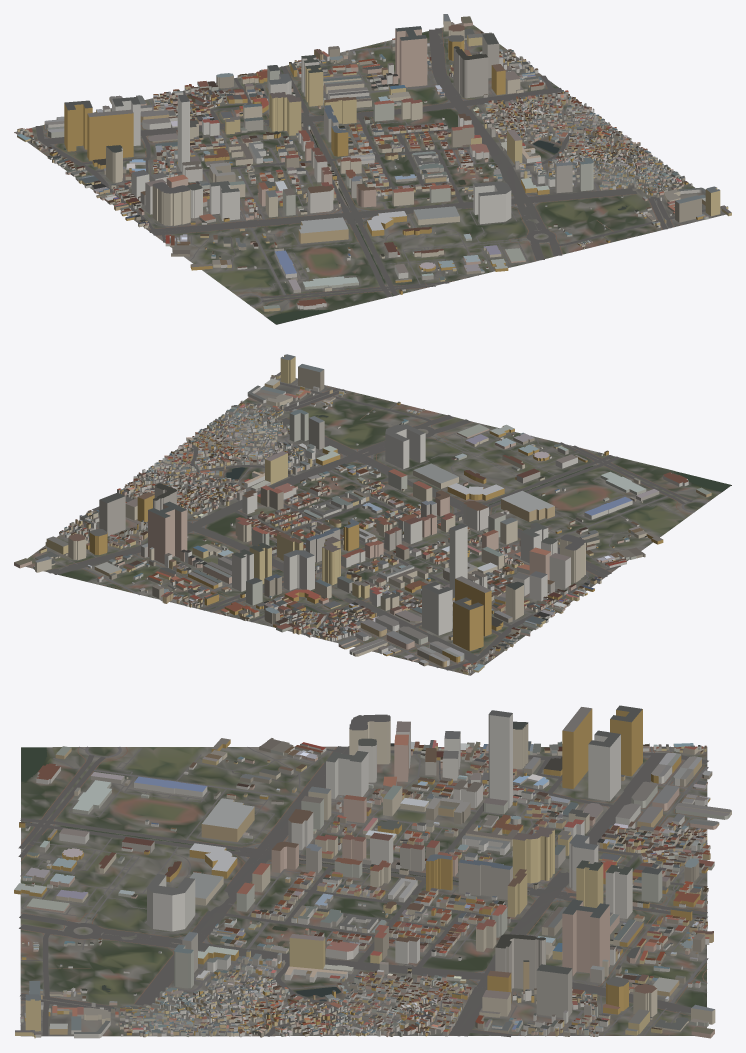
3 renders of one model, top to bottom at view 1: azimuth 30°, elevation 25°; view 2: azimuth 150°, elevation 25°; view 3: azimuth 270°, elevation 25°, orthographic. The views are drawn at different scales.
Parts seen in each view (by area): view 1: buildings, ground, roads, water; view 2: buildings, ground, roads, water; view 3: buildings, ground, roads, water.
Boxes of the visible parts, <box> form: buildings: <box>17,14,731,311</box>; ground: <box>14,23,725,324</box>; roads: <box>15,27,724,311</box>; water: <box>63,108,627,324</box>; buildings: <box>14,354,711,674</box>; ground: <box>25,378,731,675</box>; roads: <box>33,378,709,675</box>; water: <box>225,415,730,649</box>; buildings: <box>14,705,731,1038</box>; ground: <box>20,746,707,1036</box>; roads: <box>18,746,708,1037</box>; water: <box>21,747,560,1001</box>.
Bounding box in the file's own units: 1440 × 209 × 1466.
